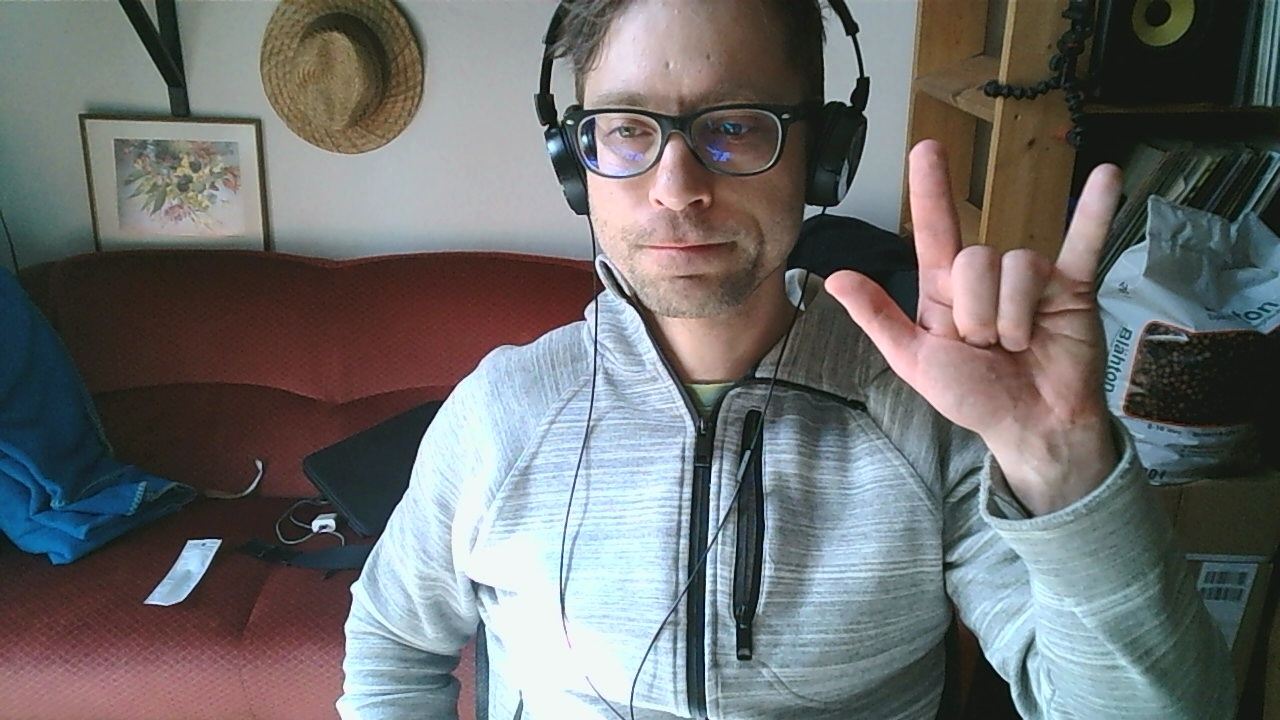iloveyou: (822, 136, 1125, 435)
